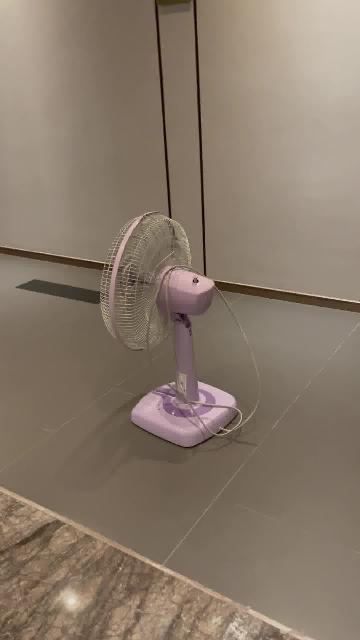Fan: (100, 212, 237, 449)
